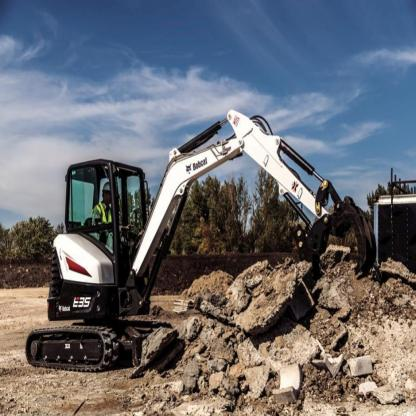excavator: (25, 117, 373, 376)
